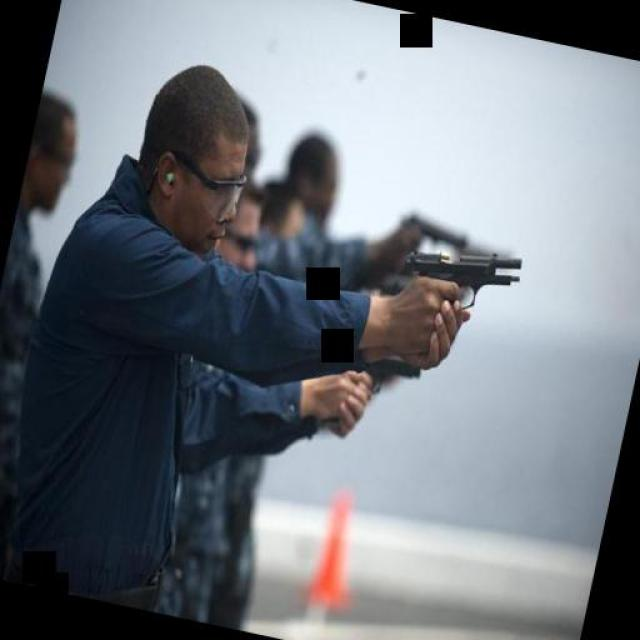gun: (388, 226, 528, 326), (394, 202, 474, 258), (350, 345, 425, 401)
